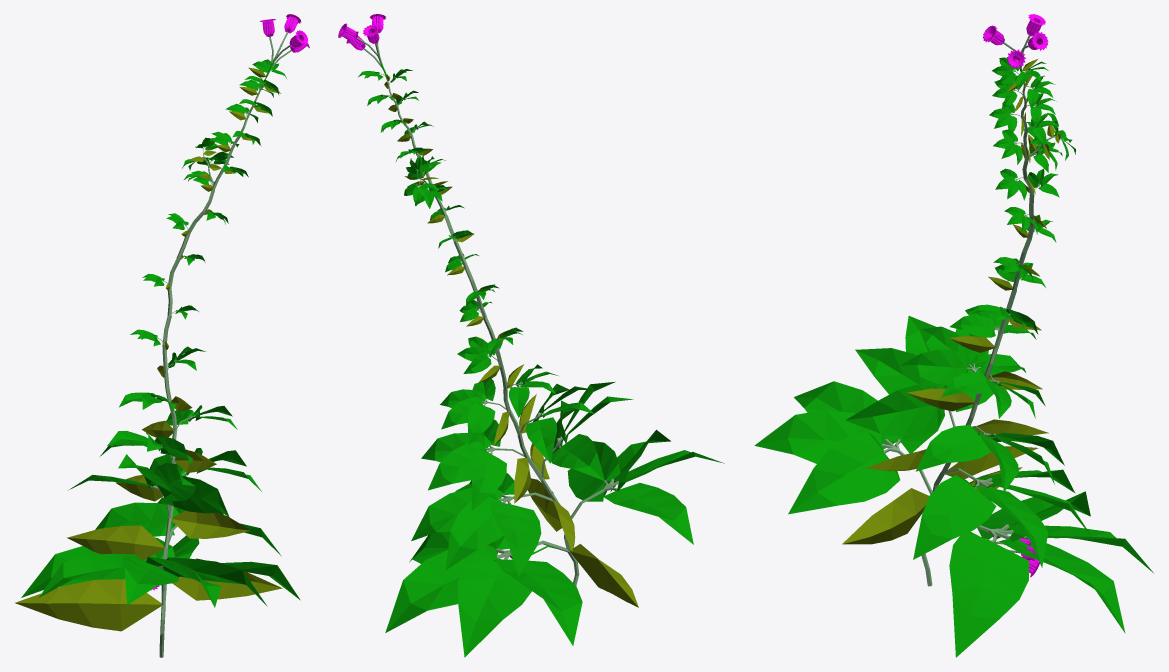
3 views of the same model, side by side, from view 1: azimuth 30°, elevation 25°; view 2: azimuth 150°, elevation 25°; view 3: azimuth 270°, elevation 25° (orthographic). The views are drawn at different scales.
Parts seen in each view (by area): view 1: 1Breeder; view 2: 1Breeder; view 3: 1Breeder.
Boxes of the visible parts, bbox=[...] form: 1Breeder: bbox=[15, 14, 309, 657]; 1Breeder: bbox=[338, 14, 724, 657]; 1Breeder: bbox=[754, 14, 1153, 657].
Size of the model in its own units: 1.4 by 2.48 by 1.37.
